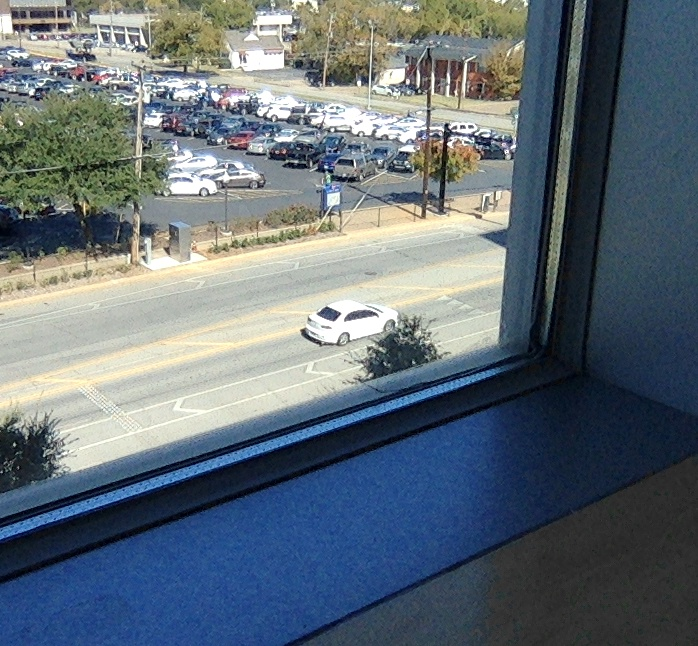car: (300, 300, 398, 346)
